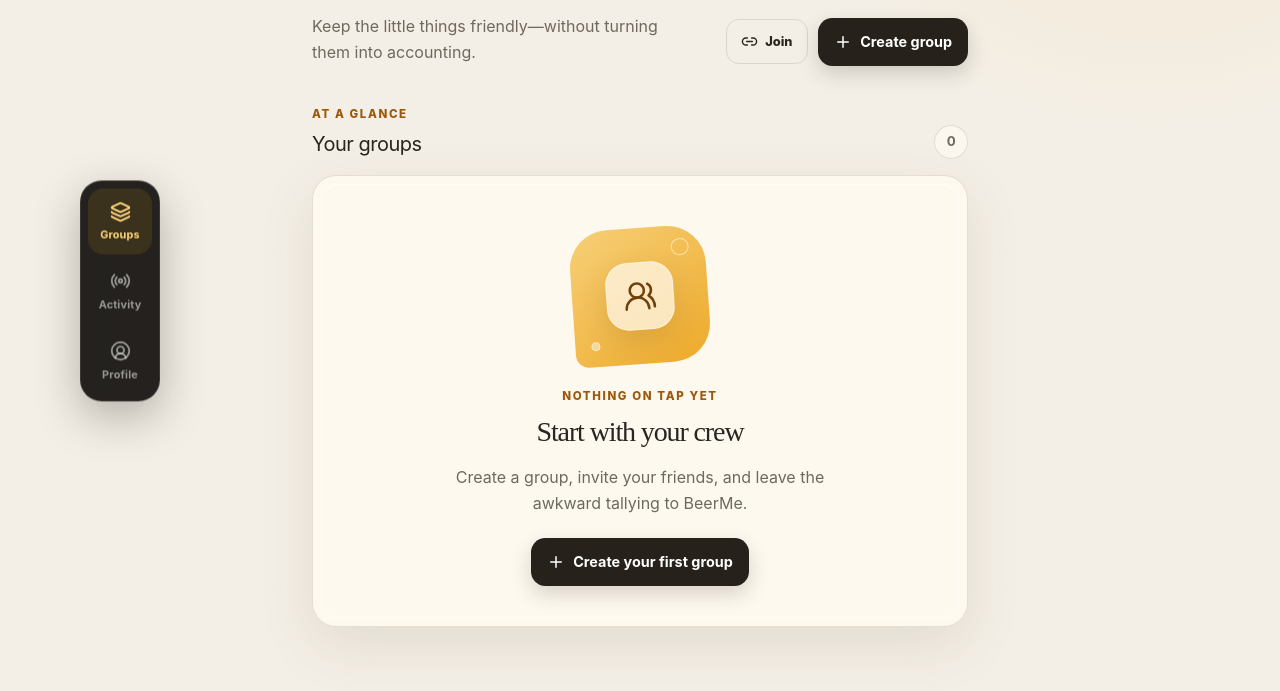
Test: BeerMe app shell › opens the create-group flow from the empty dashboard
(page scrolled)
Click the button "Create your first group": [640, 562] box [531,538,749,586]
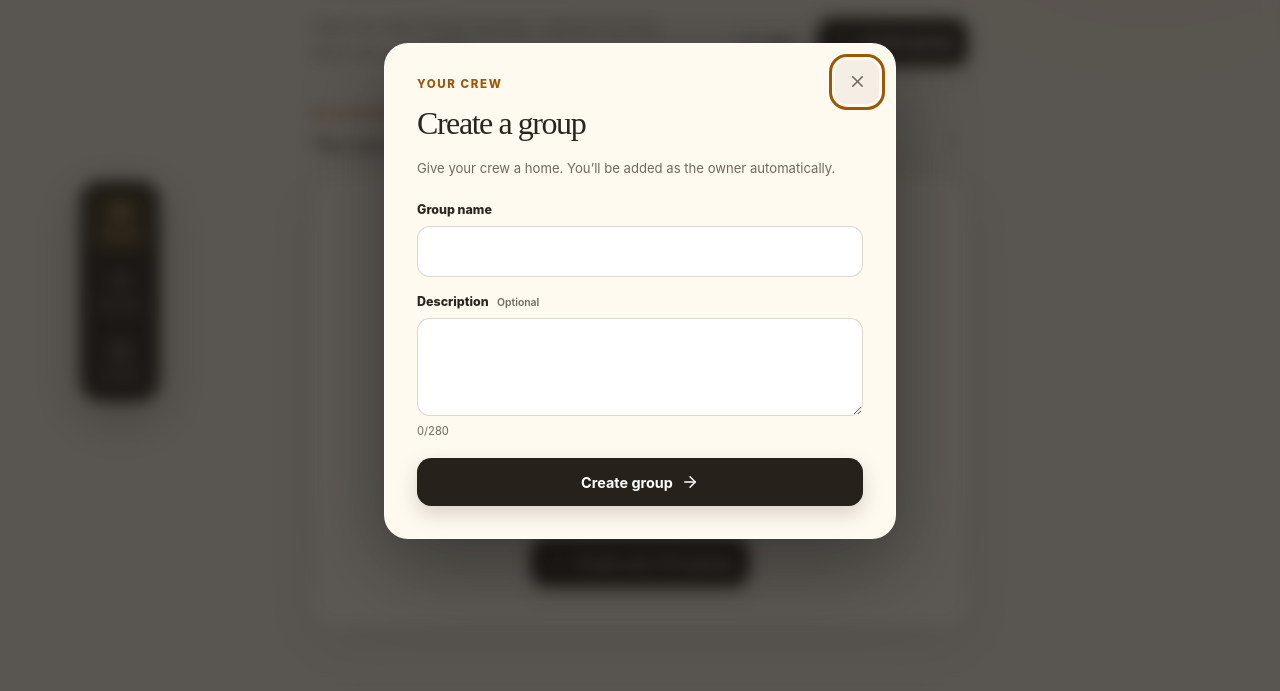
Expected: the dialog "Create a group" is shown, [384,43,896,539]
Expected: the field labelled "Group name" is shown, [417,226,863,277]
